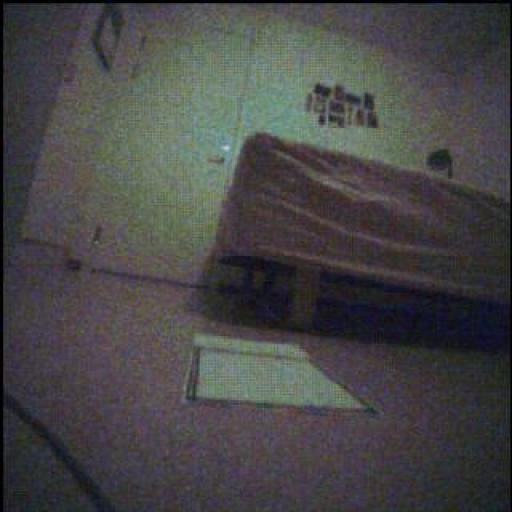pad: (187, 334, 377, 414)
